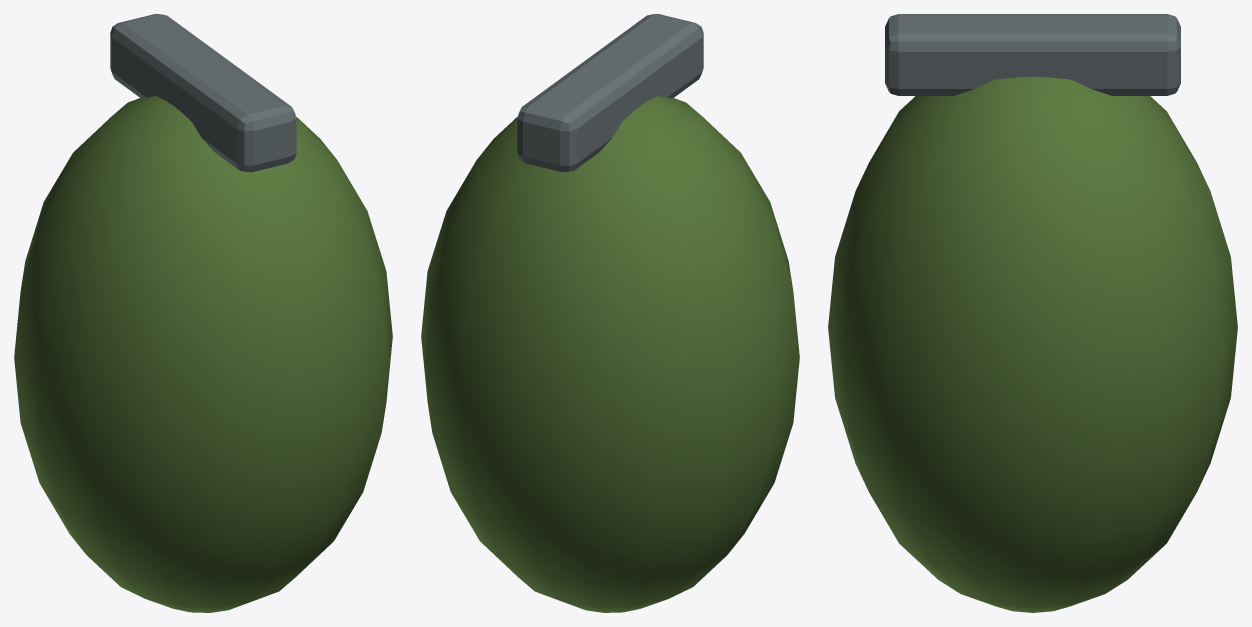
File: mc_grenade.glb
The picture shows the model from 3 angles, left to right: view 1: azimuth 30°, elevation 25°; view 2: azimuth 150°, elevation 25°; view 3: azimuth 270°, elevation 25°; orthographic projection. The views are drawn at different scales.
Visible parts, largest first — view 1: mc_grenade__Geometry; view 2: mc_grenade__Geometry; view 3: mc_grenade__Geometry.
Boxes of the visible parts, x1,y1,x2,y2 form: mc_grenade__Geometry: (14,14,392,612); mc_grenade__Geometry: (421,14,799,612); mc_grenade__Geometry: (828,14,1237,612).
Size of the model in its own units: 0.09 by 0.1395 by 0.09.
